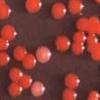red: (0, 23, 19, 43), (20, 50, 39, 70), (29, 79, 48, 98), (62, 72, 82, 90), (49, 2, 68, 20), (35, 46, 53, 65), (54, 34, 72, 52), (6, 66, 24, 84), (23, 0, 43, 16), (74, 16, 91, 33), (66, 0, 84, 16), (12, 44, 28, 62), (18, 72, 34, 90), (59, 87, 80, 100), (7, 82, 23, 98), (88, 15, 100, 35), (70, 30, 86, 44), (69, 43, 86, 56), (0, 3, 12, 21), (0, 50, 11, 69), (0, 36, 11, 54), (85, 33, 100, 45), (88, 49, 100, 64), (84, 43, 100, 54), (86, 87, 100, 99), (83, 95, 100, 100), (0, 0, 9, 7), (92, 0, 100, 7)
